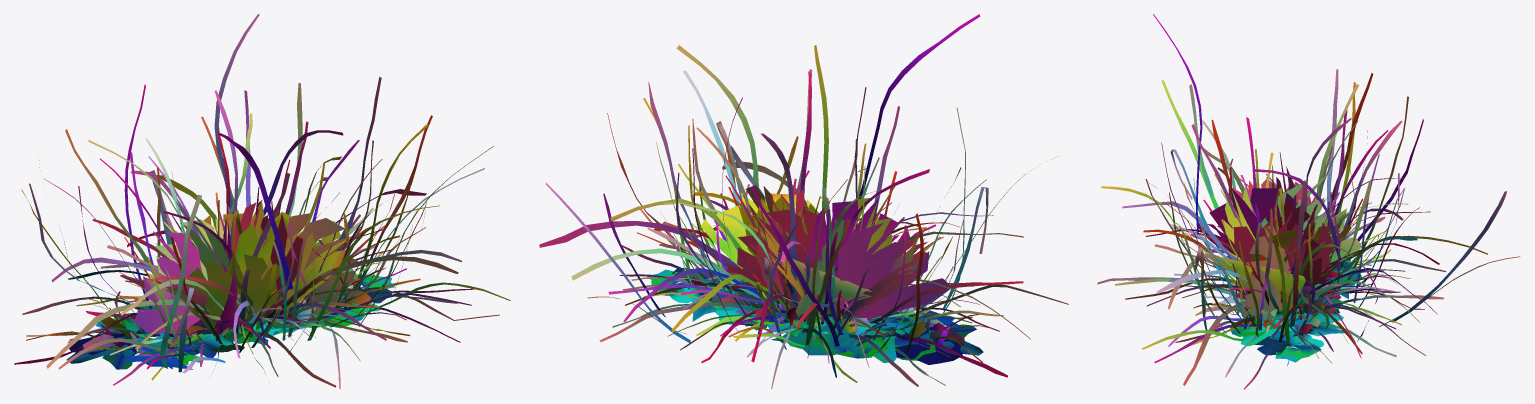
File: Wild_Grass_vdilbaiia_Mid_vdilbaiia_VarA_LOD0.fbx
3 renders of one model, left to right at view 1: azimuth 30°, elevation 25°; view 2: azimuth 150°, elevation 25°; view 3: azimuth 270°, elevation 25°, orthographic. The views are drawn at different scales.
Visible parts, largest first — view 1: _88yk_VarA_LOD1; view 2: _88yk_VarA_LOD1; view 3: _88yk_VarA_LOD1.
Part boxes in pixels (bbox=[...]): _88yk_VarA_LOD1: bbox=[14, 14, 510, 389]; _88yk_VarA_LOD1: bbox=[539, 14, 1068, 389]; _88yk_VarA_LOD1: bbox=[1097, 14, 1520, 389].
Bounding box in the file's own units: 223 × 130 × 203.
